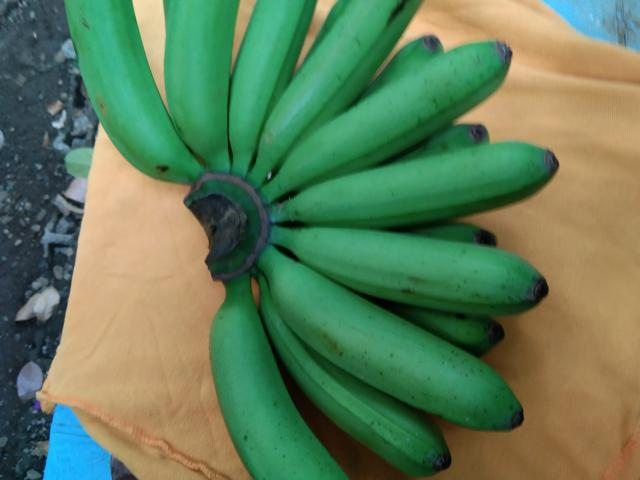freshunripe: (268, 261, 530, 440), (255, 296, 448, 479), (289, 35, 514, 189), (279, 221, 555, 323), (197, 277, 323, 479), (293, 130, 561, 224), (224, 0, 325, 181), (153, 0, 241, 162)
unripe: (57, 0, 193, 188)
